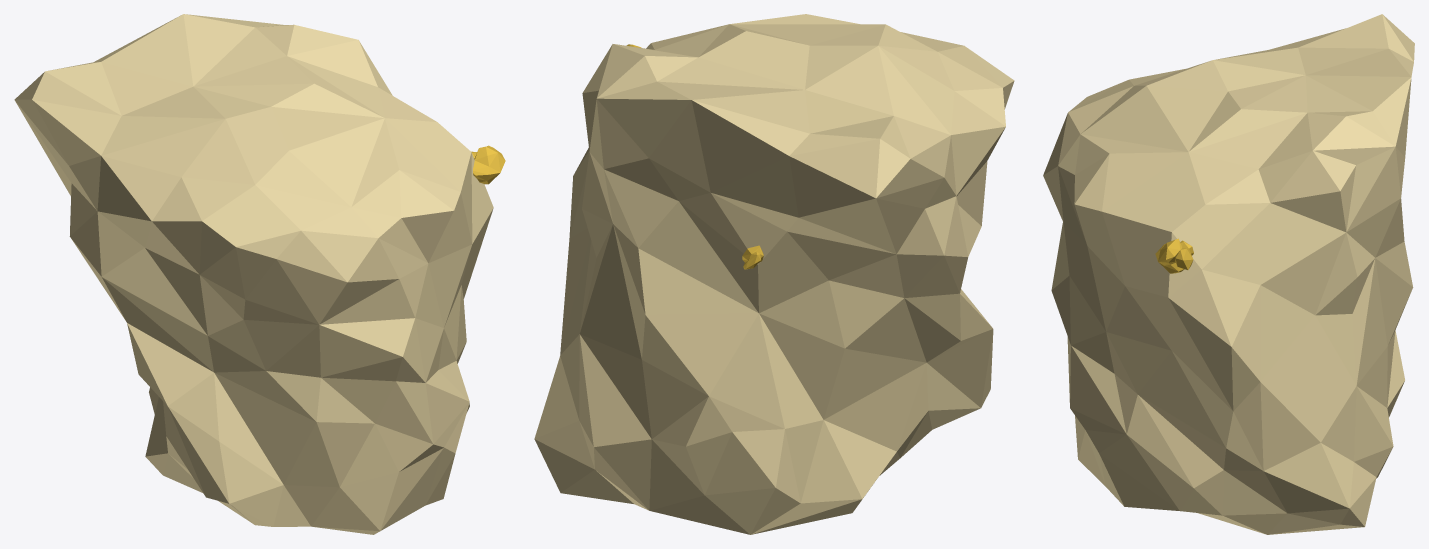
Rendered from MetalOre (53).fbx.
3 views of the same model, side by side, from view 1: azimuth 30°, elevation 25°; view 2: azimuth 150°, elevation 25°; view 3: azimuth 270°, elevation 25° (orthographic). The views are drawn at different scales.
Visible parts, largest first — view 1: Asteroid408; view 2: Asteroid408; view 3: Asteroid408.
Part boxes in pixels (box(x1,y1,x2,y2)): Asteroid408: box(14, 14, 505, 534); Asteroid408: box(534, 14, 1014, 534); Asteroid408: box(1043, 14, 1414, 534).
Size of the model in its own units: 550 by 605 by 498.
